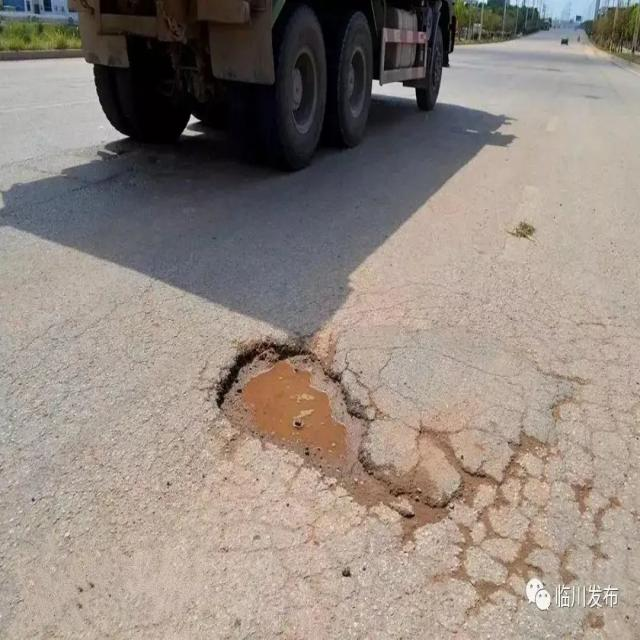Pothole: (215, 337, 488, 537)
